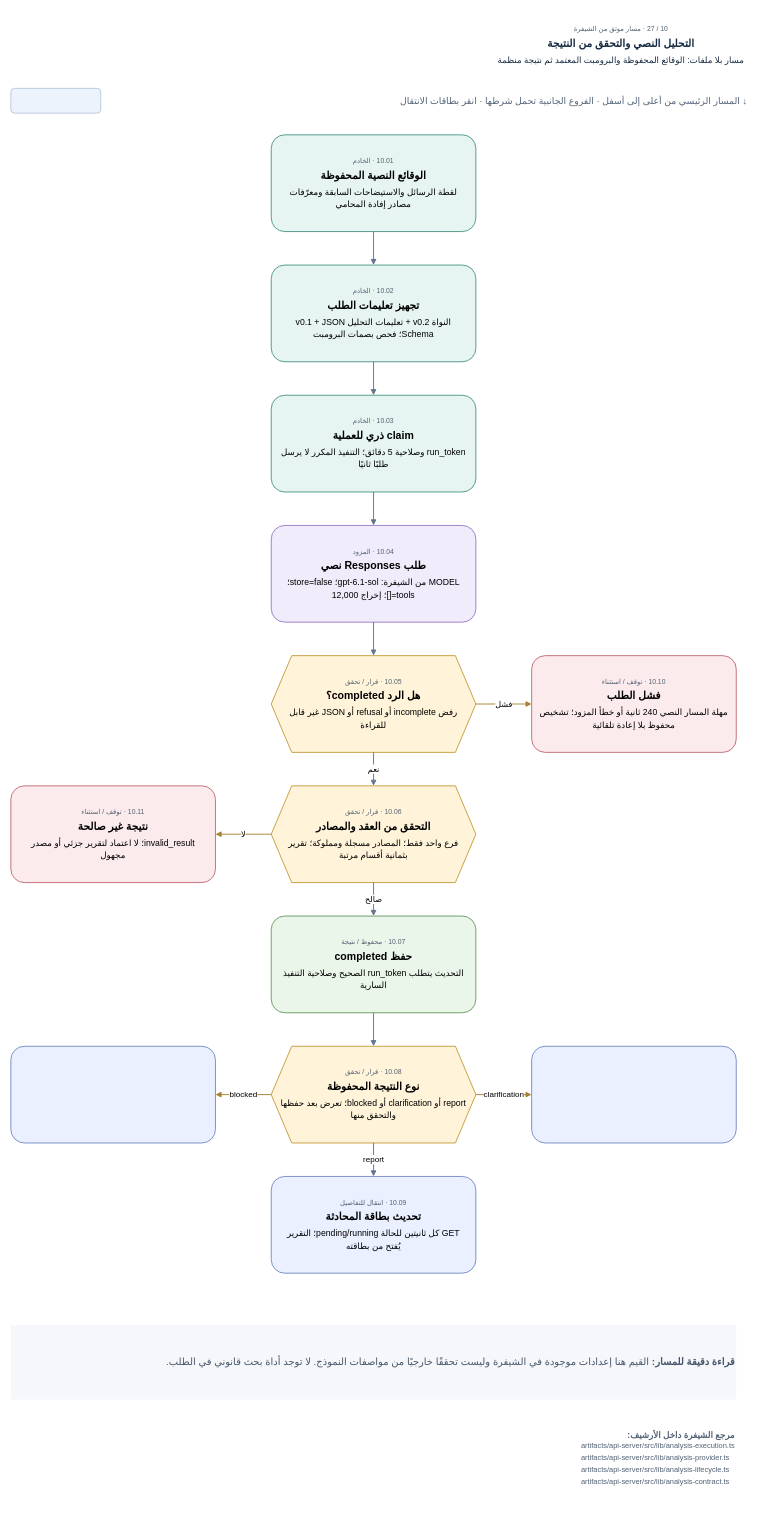
The diagram is 760 pixels wide and 1518 high, and some of its shapes have lost their labels. Each missing label, with the box of its shape:
10.12 · انتقال للتفاصيل استيضاح من سؤال إلى ثلاثة أسئلة وفق العقد: (531, 1046, 736, 1143)
10.13 · انتقال للتفاصيل تعذر بالمعطيات رسالة وقائمة نواقص لاستكمال العمل: (10, 1046, 216, 1143)
الفهرس ↗: (10, 88, 101, 113)
